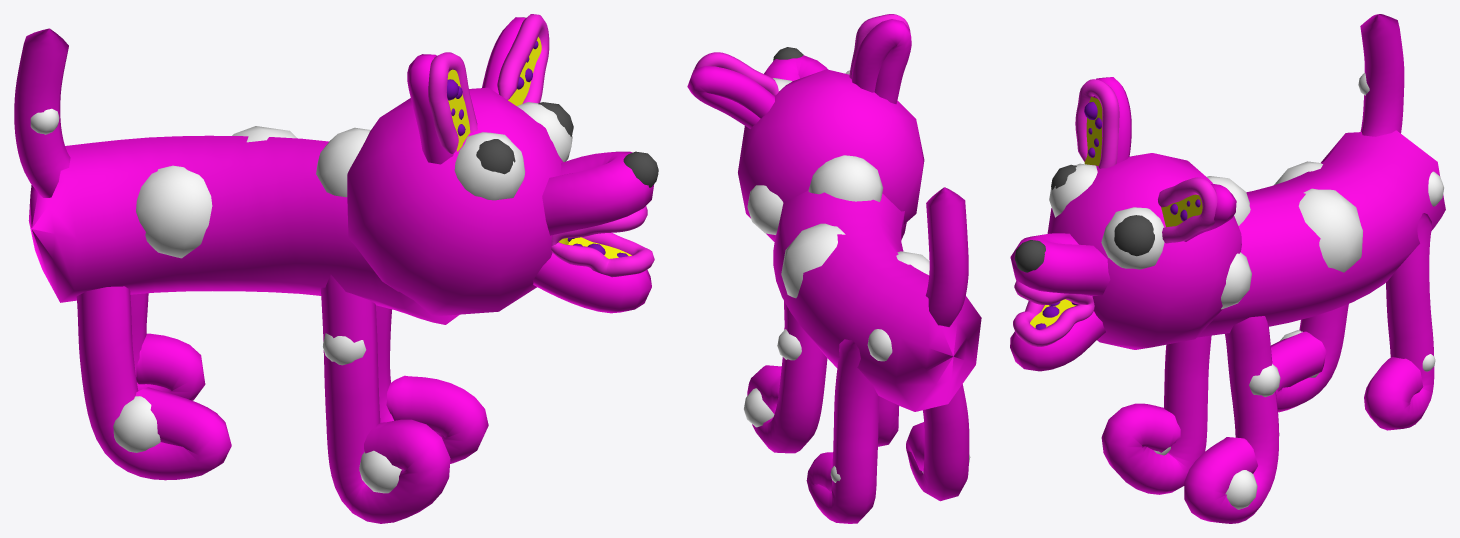
File: preview.glb
3 renders of one model, left to right at view 1: azimuth 30°, elevation 25°; view 2: azimuth 150°, elevation 25°; view 3: azimuth 270°, elevation 25°, orthographic. The views are drawn at different scales.
Visible parts, largest first — view 1: Object_6, Object_7; view 2: Object_6; view 3: Object_6, Object_7.
Boxes of the visible parts, left/top/right/bottom form: Object_6: left=14, top=14, right=658, bottom=523; Object_7: left=447, top=37, right=631, bottom=258; Object_6: left=687, top=14, right=981, bottom=523; Object_6: left=1010, top=14, right=1445, bottom=523; Object_7: left=1030, top=96, right=1202, bottom=327.
Bounding box in the file's own units: 0.5528 × 0.5869 × 0.5511.
2 materials, 2 textured.
